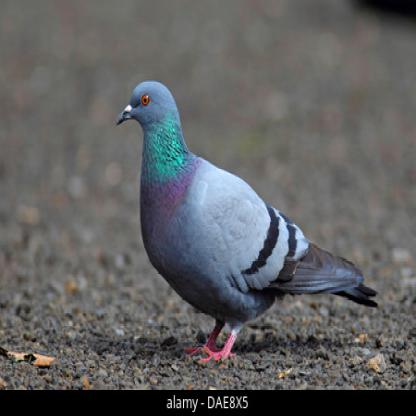Flying Rat: (108, 76, 354, 358)
